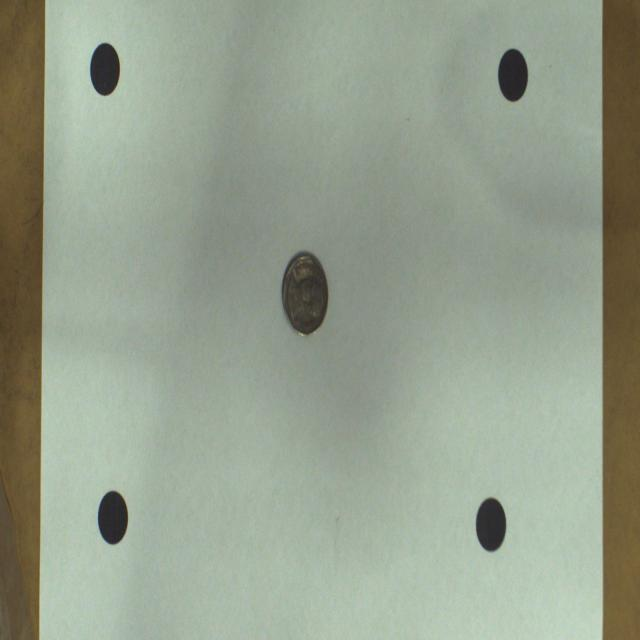head5bath: (282, 253, 328, 336)
space: (90, 42, 120, 96), (98, 491, 128, 544), (498, 49, 528, 102), (476, 498, 506, 551)
